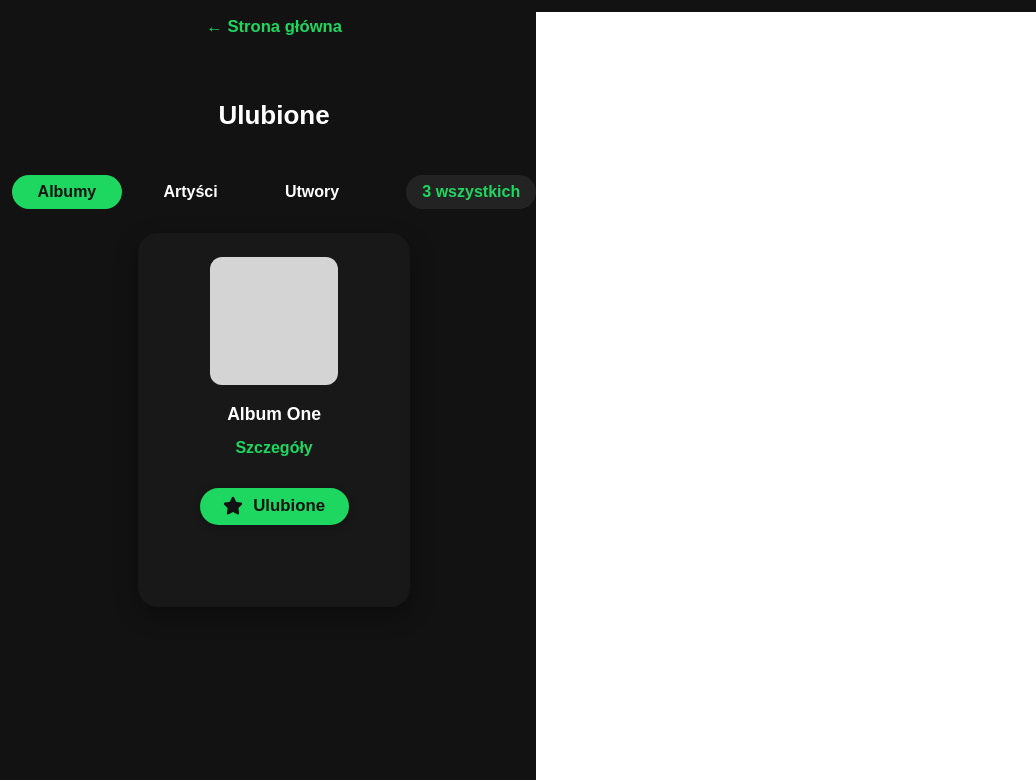
it: Favorites component › shows correct cards for each tab
Check: the text "Album One" is shown, box [227, 404, 321, 424]
Check: the text "Artist One" is not shown
Click the button "Artyści".
click(191, 192)  # box [138, 175, 243, 209]
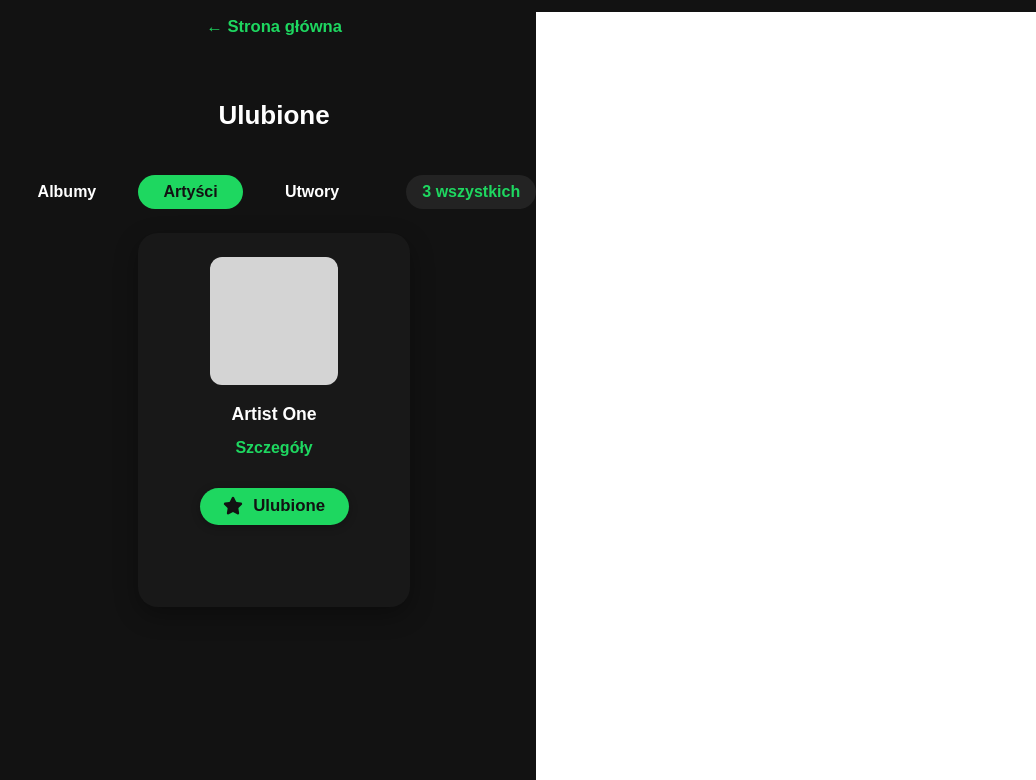
Check: the text "Artist One" is shown, box [232, 404, 317, 424]
Check: the text "Album One" is gone
Click the button "Utwory".
click(312, 192)  # box [259, 175, 365, 209]
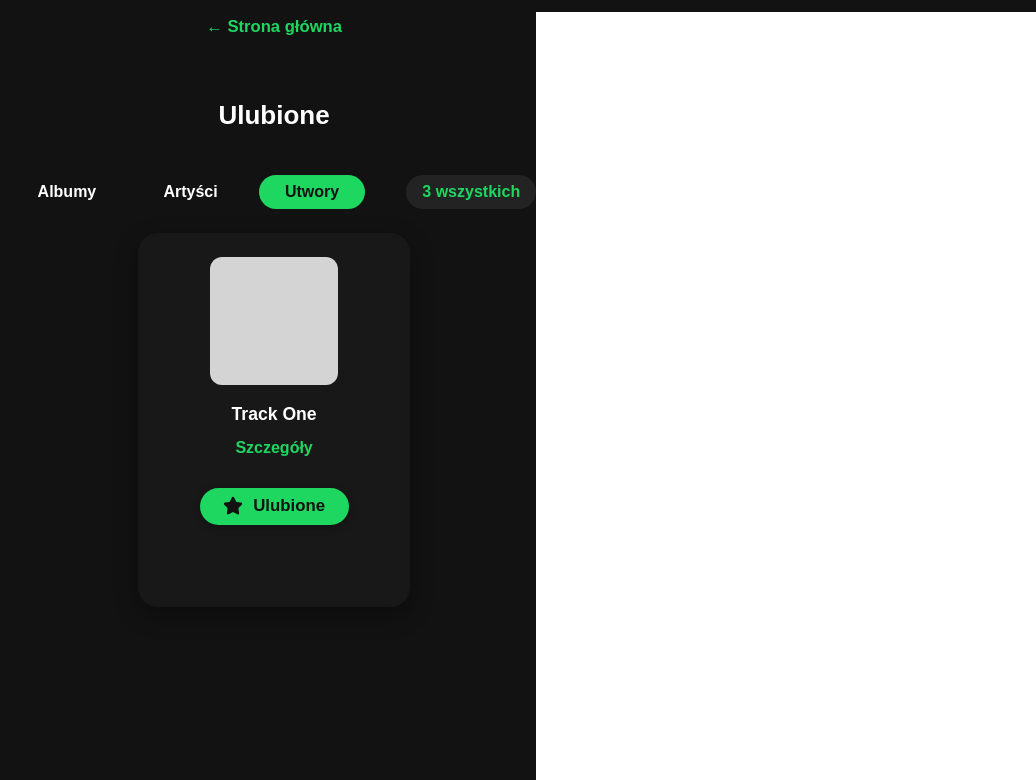
Check: the text "Track One" is shown, box [232, 404, 317, 424]
Check: the text "Artist One" is gone
